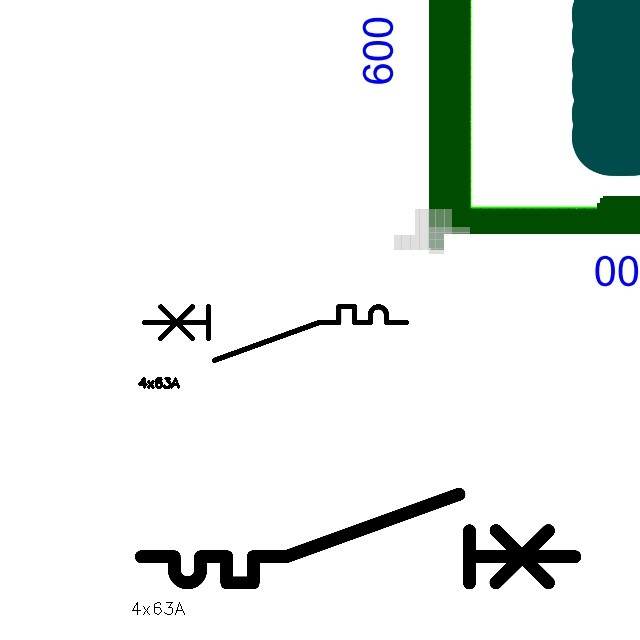interruptor_termomagnetico: (130, 483, 585, 594), (138, 300, 413, 367)
